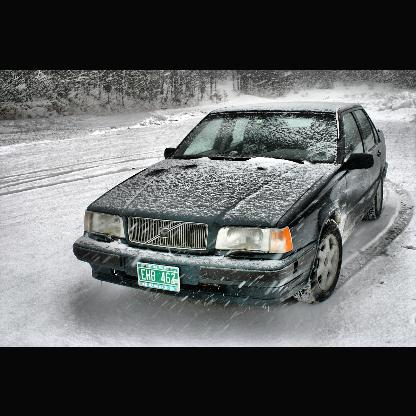Volvo 240 Sedan 1993: (73, 102, 389, 317)
